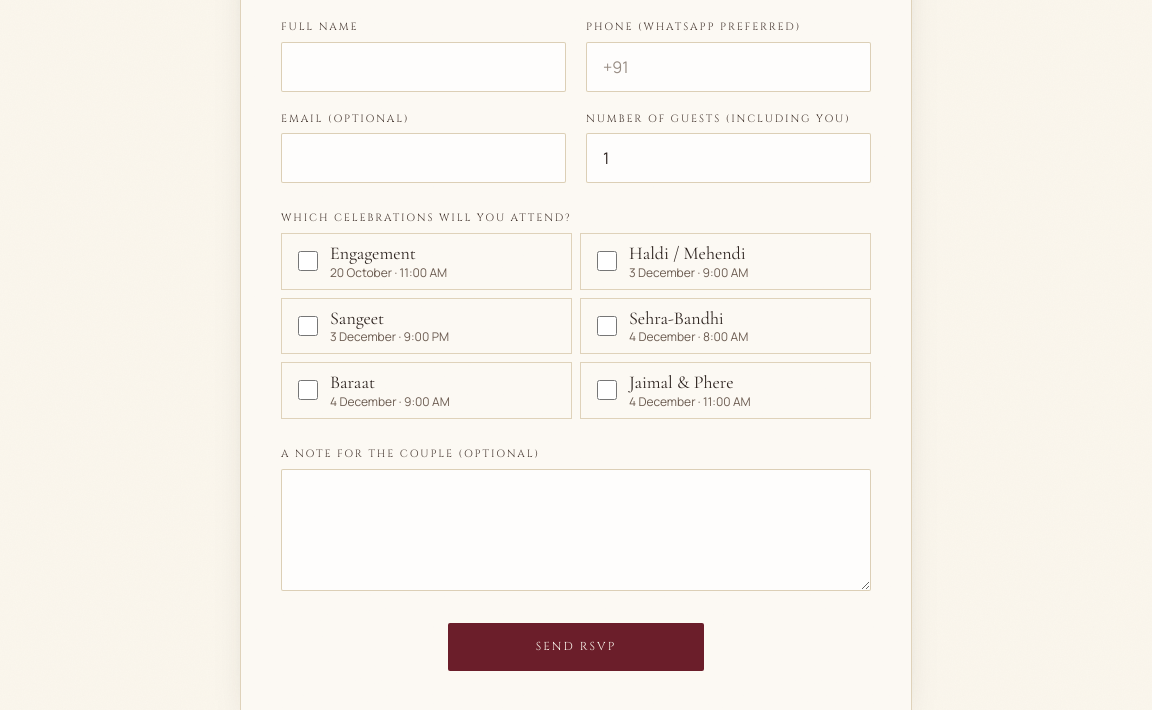
Test: RsvpForm › shows validation messages and does not submit invalid input
(page scrolled)
Click the button "Send RSVP" at coordinates (576, 647), box top-left (448, 623), bottom-right (704, 671)
(page scrolled)
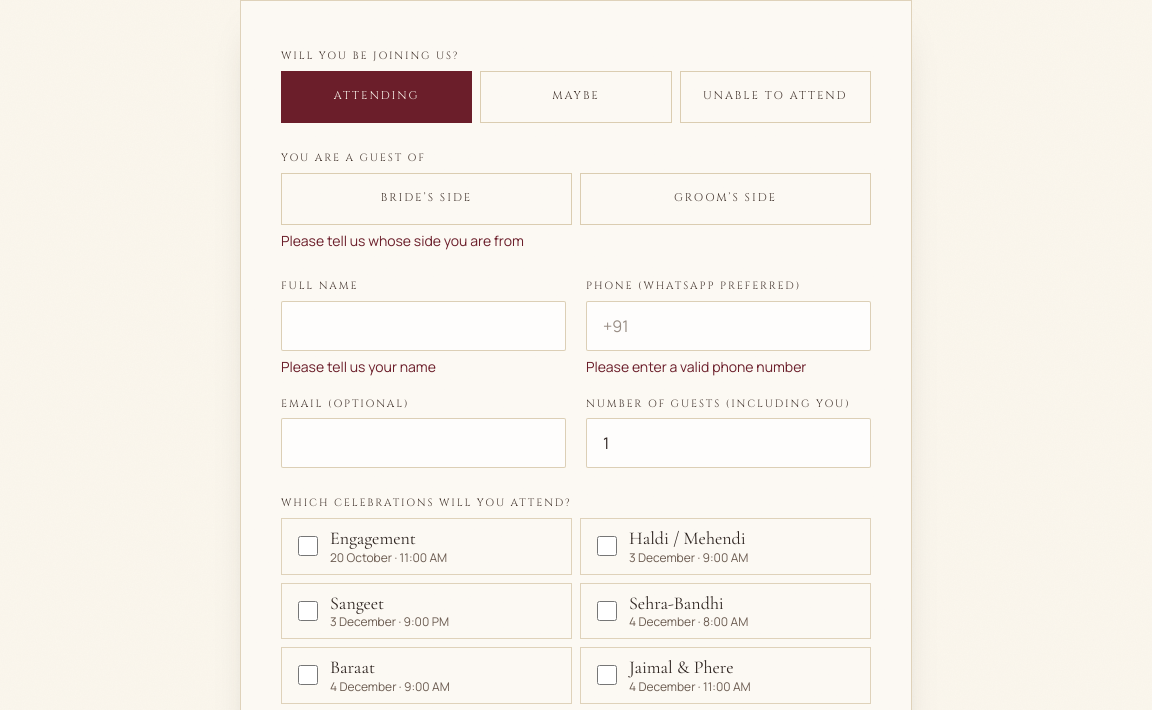
Now the text "Please tell us your name" is shown, box top-left (281, 356), bottom-right (436, 376)
Now the text "Please enter a valid phone number" is shown, box top-left (586, 356), bottom-right (806, 376)
Now the text "Please tell us whose side you are from" is shown, box top-left (281, 231), bottom-right (524, 250)
